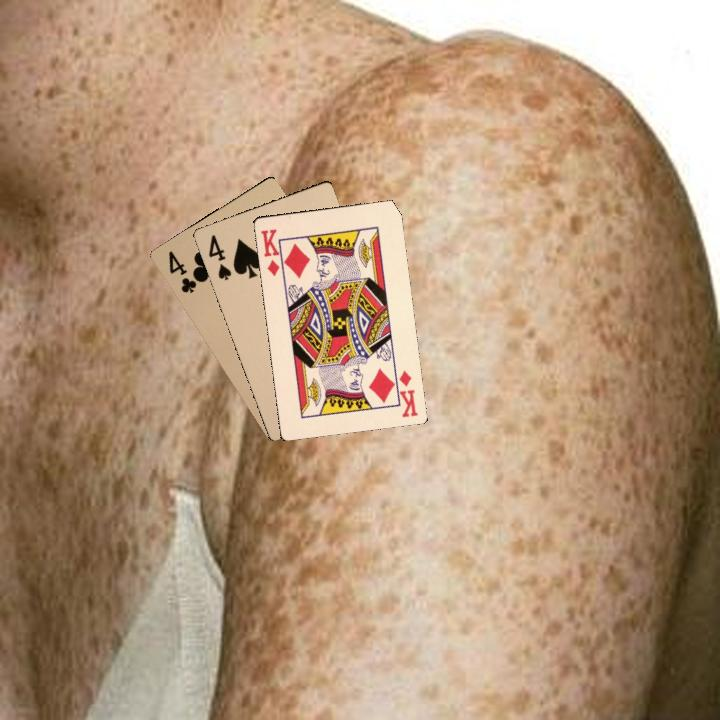4c: (164, 246, 200, 296)
4s: (204, 231, 234, 282)
Kd: (390, 363, 420, 420), (257, 225, 288, 277)
